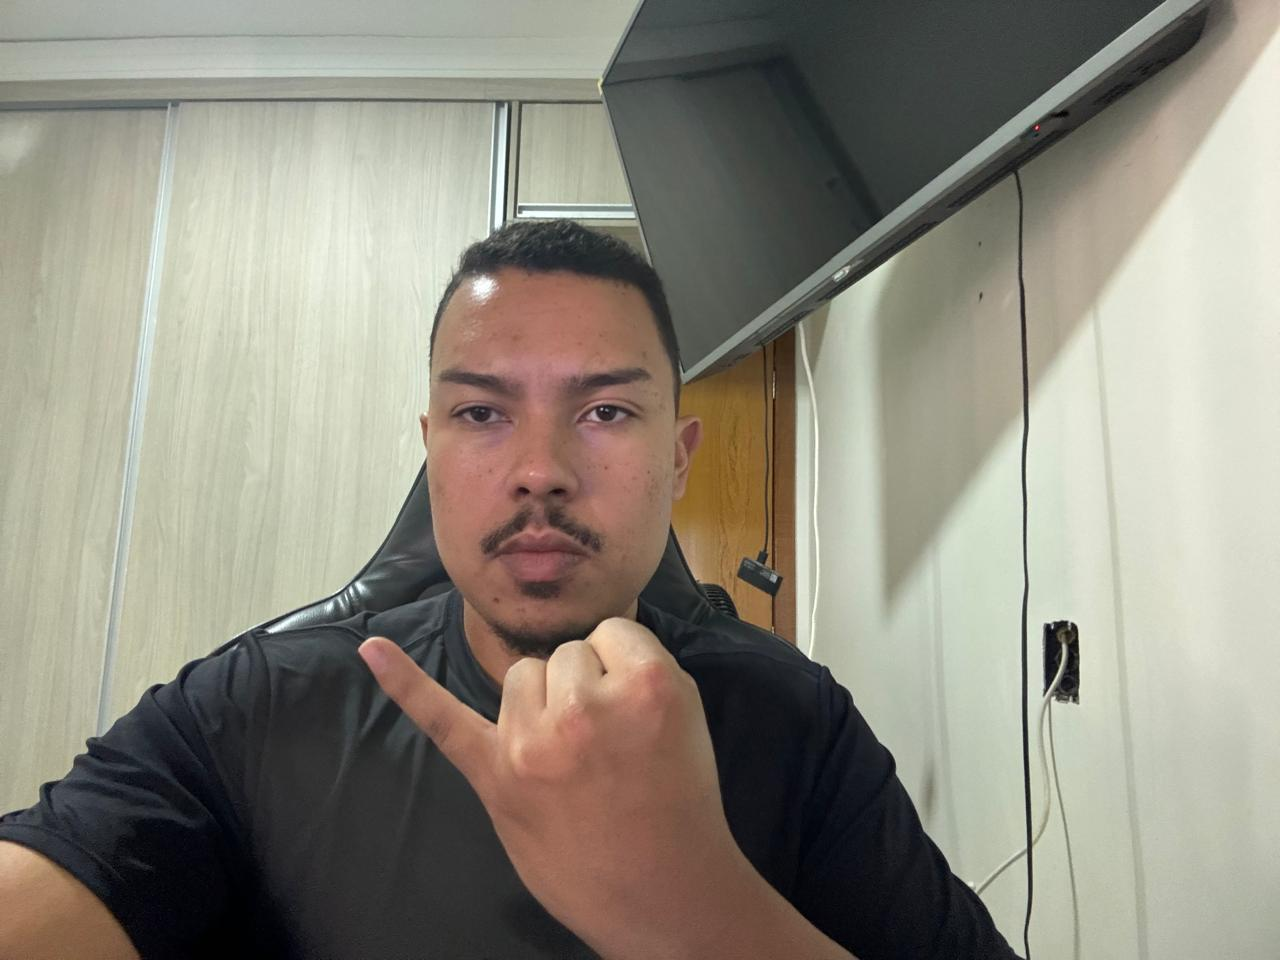j: (343, 610, 733, 942)
